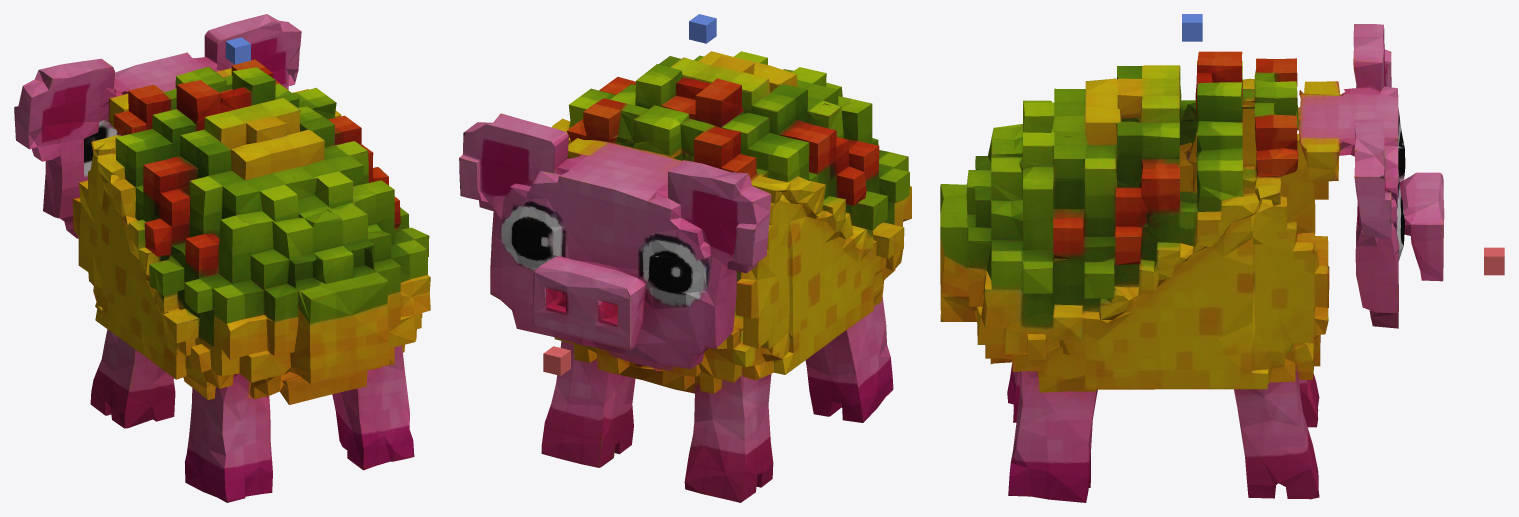
File: MaialinoTaco.glb
3 views of the same model, side by side, from view 1: azimuth 30°, elevation 25°; view 2: azimuth 150°, elevation 25°; view 3: azimuth 270°, elevation 25° (orthographic). The views are drawn at different scales.
Parts seen in each view (by area): view 1: MaialinoTaco_Body, MaialinoTaco_Leg2, MaialinoTaco_Top; view 2: MaialinoTaco_Body, MaialinoTaco_Leg1, MaialinoTaco_Leg2, MaialinoTaco_Front, MaialinoTaco_Top; view 3: MaialinoTaco_Body, MaialinoTaco_Leg1, MaialinoTaco_Leg2.
Boxes of the visible parts, bbox=[...] form: MaialinoTaco_Body: bbox=[14, 14, 430, 502]; MaialinoTaco_Leg2: bbox=[90, 329, 175, 428]; MaialinoTaco_Top: bbox=[225, 37, 250, 64]; MaialinoTaco_Body: bbox=[459, 51, 911, 422]; MaialinoTaco_Leg1: bbox=[541, 356, 635, 467]; MaialinoTaco_Leg2: bbox=[684, 378, 773, 502]; MaialinoTaco_Front: bbox=[543, 346, 570, 375]; MaialinoTaco_Top: bbox=[689, 14, 716, 43]; MaialinoTaco_Body: bbox=[940, 24, 1444, 502]; MaialinoTaco_Leg1: bbox=[1237, 385, 1319, 499]; MaialinoTaco_Leg2: bbox=[1299, 374, 1319, 427].
Size of the model in its own units: 4.25 by 5.72 by 6.78.
Materials: 1 (1 with a texture image).
